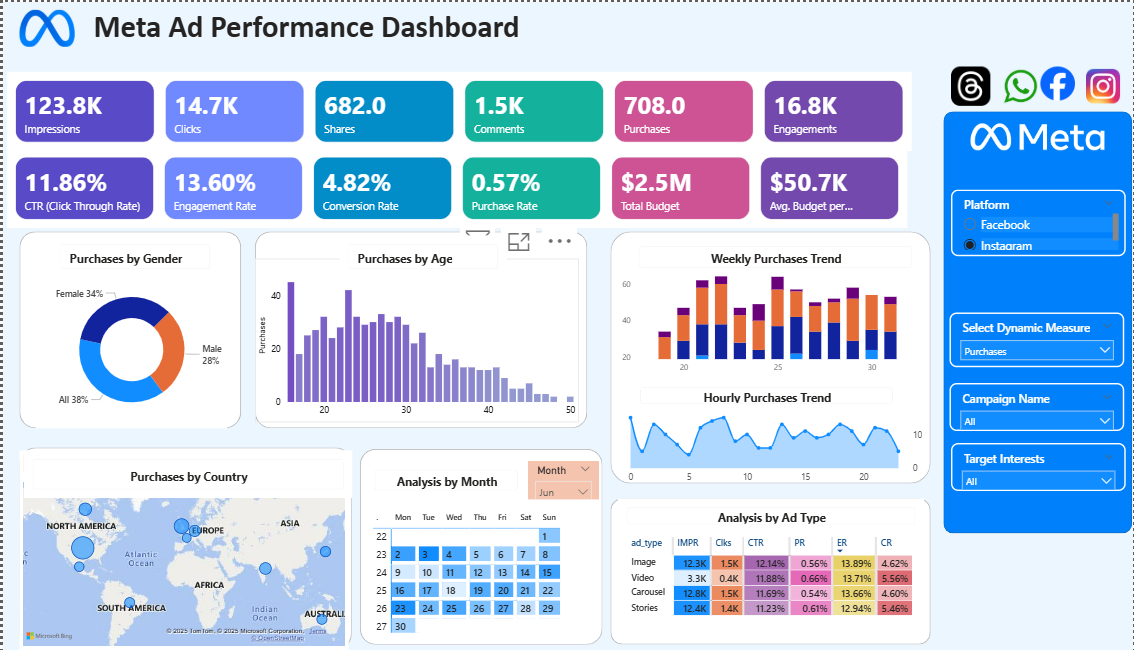

What the dashboard file says about the page in this screenshot:
{"tool":"powerbi","page":{"name":"Meta Ad","canvas":[1570,900],"ordinal":0},"visuals":[{"type":"textbox","box":[120.9,2.3,623.3,65.1],"z":0},{"type":"image","box":[23.3,7,76.7,60.5],"z":1000},{"type":"shape","box":[1307.1,152.4,261.9,585.7],"z":2000},{"type":"cardVisual","fields":{"Data":["ad_events.Impressions","ad_events.Clicks","ad_events.Shares","ad_events.Comments","ad_events.Purchases","ad_events.Engagements"]},"box":[0,91.6,1267.4,120],"z":3000},{"type":"cardVisual","fields":{"Data":["ad_events.CTR (Click Through Rate)","ad_events.Engagement Rate","ad_events.Conversion Rate","ad_events.Purchase Rate","ad_events.Total Budget","ad_events.Avg. Budget per Campaign"]},"box":[0,197.6,1266.7,121.4],"z":4000},{"type":"slicer","fields":{"Values":["Select Dynamic Measure.Select Dynamic Measure"]},"box":[1314.3,431,242.9,76.2],"z":5000},{"type":"shape","box":[23.1,319.2,307.7,273.1],"z":6000},{"type":"donutChart","fields":{"Y":["ad_events.Purchases"],"Category":["ads.target_gender"]},"box":[46.2,373.1,265.4,219.2],"z":7000},{"type":"cardVisual","fields":{"Data":["ad_events.Gender Title"]},"box":[61.5,319.2,242.3,69.2],"z":8000},{"type":"shape","box":[350,319.2,461.5,273.1],"z":9000},{"type":"columnChart","fields":{"Y":["ad_events.Purchases"],"Category":["users.user_age"]},"box":[350,355.3,450,228.9],"z":10000},{"type":"cardVisual","fields":{"Data":["ad_events.Age Title"]},"box":[461.5,319.2,242.3,69.2],"z":11000},{"type":"shape","box":[23.1,619.2,461.5,280.8],"z":12000},{"type":"map","fields":{"Size":["ad_events.Purchases"],"Category":["users.country"]},"box":[22.7,622.7,456.8,277.3],"z":13000},{"type":"cardVisual","fields":{"Data":["ad_events.Map Title"]},"box":[28.3,623.3,456.7,66.7],"z":14000},{"type":"shape","box":[496.7,620,336.7,271.7],"z":15000},{"type":"pivotTable","fields":{"Rows":["Calender Table.Week Number"],"Columns":["Calender Table.Day Name"],"Values":["Min(Calender Table.Day Number)"]},"box":[508.3,702.8,302.8,180.6],"z":16000},{"type":"slicer","fields":{"Values":["Calender Table.Month"]},"box":[728.3,636.7,98.3,53.3],"z":17000},{"type":"cardVisual","fields":{"Data":["ad_events.Calender Title"]},"box":[505,636.7,223.3,53.3],"z":18000},{"type":"shape","box":[844.4,319.4,444.4,350],"z":19000},{"type":"columnChart","fields":{"Y":["ad_events.Purchases"],"Category":["Calender Table.Week Number"],"Series":["ads.ad_type"]},"box":[854.5,363.6,420.5,159.1],"z":20000},{"type":"cardVisual","fields":{"Data":["ad_events.Weekly Title"]},"box":[871.4,326.2,404.8,54.8],"z":21000},{"type":"areaChart","fields":{"Y2":["ad_events.Purchases"],"Category":["ad_events.Event Hour"]},"box":[855.6,561.1,425,116.7],"z":22000},{"type":"cardVisual","fields":{"Data":["ad_events.Hourly Title"]},"box":[872.2,522.2,375,47.2],"z":23000},{"type":"shape","box":[844.4,688.9,444.4,202.8],"z":24000},{"type":"pivotTable","fields":{"Rows":["ads.ad_type"],"Values":["ad_events.Impressions","ad_events.Clicks","ad_events.CTR (Click Through Rate)","ad_events.Purchase Rate","ad_events.Engagement Rate","ad_events.Conversion Rate"]},"box":[861.7,738.3,418.3,145],"z":25000},{"type":"cardVisual","fields":{"Data":["ad_events.Matrix Title"]},"box":[855,690,425,48.3],"z":26000},{"type":"image","box":[1342.9,164.3,185.7,45.2],"z":27000},{"type":"slicer","fields":{"Values":["campaigns.name"]},"box":[1314.3,528.6,242.9,66.7],"z":28000},{"type":"slicer","fields":{"Values":["ads.target_interests"]},"box":[1316.7,611.9,242.9,66.7],"z":29000},{"type":"slicer","fields":{"Values":["ads.ad_platform"]},"box":[1316.7,259.5,242.9,92.9],"z":30000},{"type":"image","box":[1438.1,90.5,54.8,47.6],"z":31000},{"type":"image","box":[1390.5,88.1,47.6,59.5],"z":32000},{"type":"image","box":[1316.7,90.5,54.8,54.8],"z":33000},{"type":"image","box":[1504.8,90.5,47.6,54.8],"z":34000}]}

Visuals, with their boxes in screenshot pixels (x1, y1, x2, y2), scaled from the page's 1570x900 canvas onto the 1134x650 screenshot:
textbox: Rect(87, 2, 538, 49)
image: Rect(17, 5, 72, 49)
shape: Rect(944, 110, 1133, 533)
cardVisual - ad_events.Impressions x ad_events.Clicks: Rect(0, 66, 915, 153)
cardVisual - ad_events.CTR (Click Through Rate) x ad_events.Engagement Rate: Rect(0, 143, 915, 230)
slicer - Select Dynamic Measure.Select Dynamic Measure: Rect(949, 311, 1125, 366)
shape: Rect(17, 231, 239, 428)
donutChart - ad_events.Purchases x ads.target_gender: Rect(33, 269, 225, 428)
cardVisual - ad_events.Gender Title: Rect(44, 231, 219, 281)
shape: Rect(253, 231, 586, 428)
columnChart - ad_events.Purchases x users.user_age: Rect(253, 257, 578, 422)
cardVisual - ad_events.Age Title: Rect(333, 231, 508, 281)
shape: Rect(17, 447, 350, 649)
map - ad_events.Purchases x users.country: Rect(16, 450, 346, 649)
cardVisual - ad_events.Map Title: Rect(20, 450, 350, 498)
shape: Rect(359, 448, 602, 644)
pivotTable - Calender Table.Week Number x Calender Table.Day Name: Rect(367, 508, 586, 638)
slicer - Calender Table.Month: Rect(526, 460, 597, 498)
cardVisual - ad_events.Calender Title: Rect(365, 460, 526, 498)
shape: Rect(610, 231, 931, 483)
columnChart - ad_events.Purchases x Calender Table.Week Number: Rect(617, 263, 921, 378)
cardVisual - ad_events.Weekly Title: Rect(629, 236, 922, 275)
areaChart - ad_events.Purchases x ad_events.Event Hour: Rect(618, 405, 925, 490)
cardVisual - ad_events.Hourly Title: Rect(630, 377, 901, 411)
shape: Rect(610, 498, 931, 644)
pivotTable - ads.ad_type x ad_events.Impressions: Rect(622, 533, 925, 638)
cardVisual - ad_events.Matrix Title: Rect(618, 498, 925, 533)
image: Rect(970, 119, 1104, 151)
slicer - campaigns.name: Rect(949, 382, 1125, 430)
slicer - ads.target_interests: Rect(951, 442, 1126, 490)
slicer - ads.ad_platform: Rect(951, 187, 1126, 255)
image: Rect(1039, 65, 1078, 100)
image: Rect(1004, 64, 1039, 107)
image: Rect(951, 65, 991, 105)
image: Rect(1087, 65, 1121, 105)
